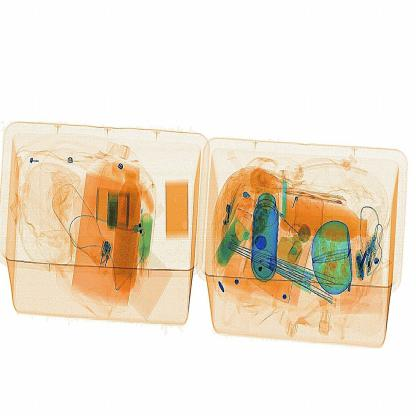pliers: (272, 169, 291, 237)
